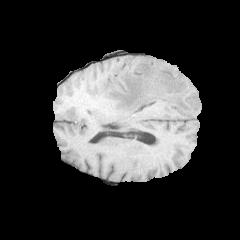glioma: (101, 60, 193, 113)
